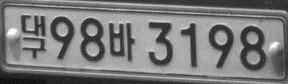1: (179, 23, 204, 67)
3: (148, 22, 174, 66)
8: (239, 25, 267, 70), (79, 17, 106, 61)
9: (208, 23, 235, 69), (50, 15, 75, 59)
대구_V: (20, 14, 47, 59)
바: (108, 22, 135, 61)
